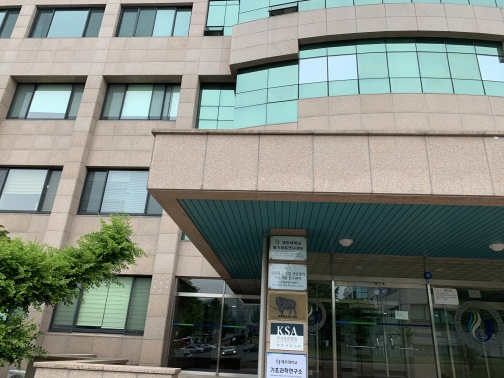Joint Experimental Labs: (18, 5, 496, 367)
